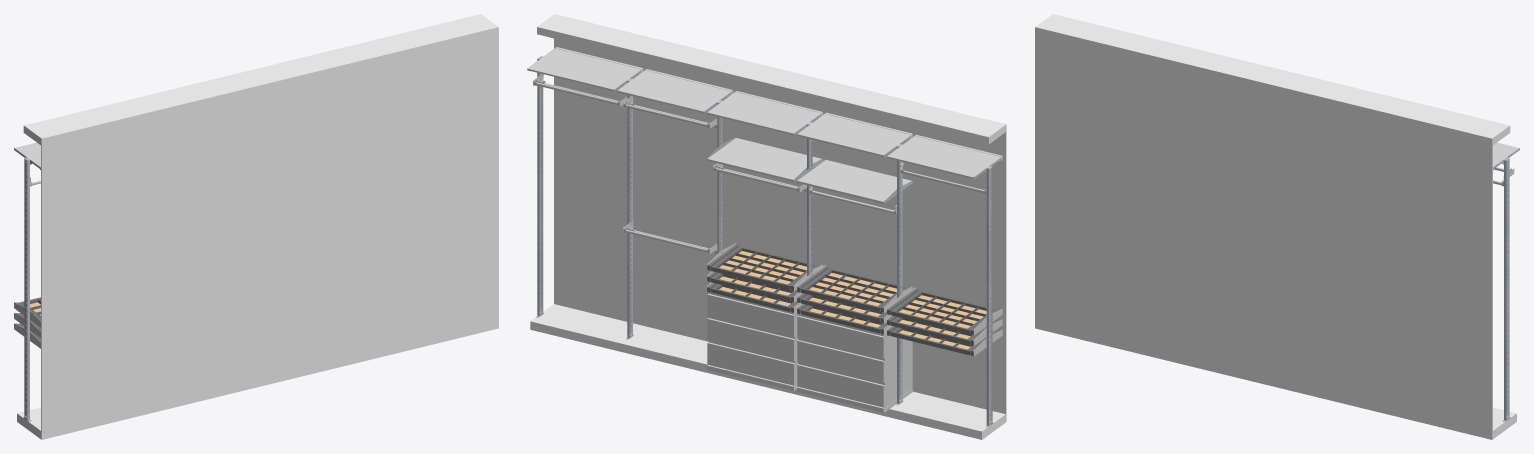
3 views of the same model, side by side, from view 1: azimuth 30°, elevation 25°; view 2: azimuth 150°, elevation 25°; view 3: azimuth 330°, elevation 25° (orthographic).
Parts seen in each view (by area): view 1: Geom3D_, Geom3D_组件#2; view 2: Geom3D_, Geom3D_组件#4_柜子 copy 002 (×2), Geom3D (×12), Geom3D_组件#16 (×5), Geom3D_组件#2 (×6), Geom3D_组件#15_木层板（中间） copy 002 (×2), Geom3D_组件#11_双衣杆 copy 002 (×4); view 3: Geom3D_, Geom3D_组件#2.
Part boxes in pixels (left/top/right/bottom): Geom3D_: left=17, top=14, right=498, bottom=439; Geom3D_组件#2: left=23, top=157, right=30, bottom=421; Geom3D_: left=530, top=14, right=1006, bottom=439; Geom3D_组件#4_柜子 copy 002 (×2): left=707, top=292, right=912, bottom=412; Geom3D (×12): left=707, top=244, right=1000, bottom=356; Geom3D_组件#16 (×5): left=527, top=47, right=1002, bottom=178; Geom3D_组件#2 (×6): left=536, top=56, right=993, bottom=427; Geom3D_组件#15_木层板（中间） copy 002 (×2): left=707, top=138, right=911, bottom=203; Geom3D_组件#11_双衣杆 copy 002 (×4): left=533, top=74, right=806, bottom=253; Geom3D_: left=1035, top=14, right=1516, bottom=439; Geom3D_组件#2: left=1503, top=157, right=1510, bottom=421.
Bounding box in the file's own units: 4.53 × 2.85 × 0.5216.
4 materials, 1 textured.
